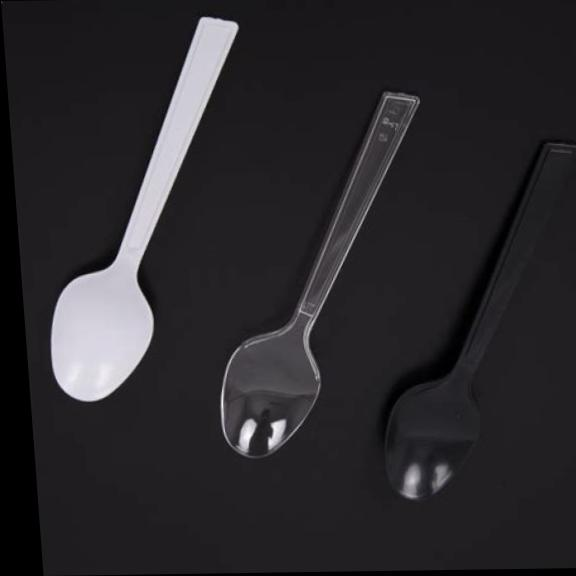Plastik: (220, 92, 418, 456), (51, 17, 236, 399), (384, 141, 575, 498)
